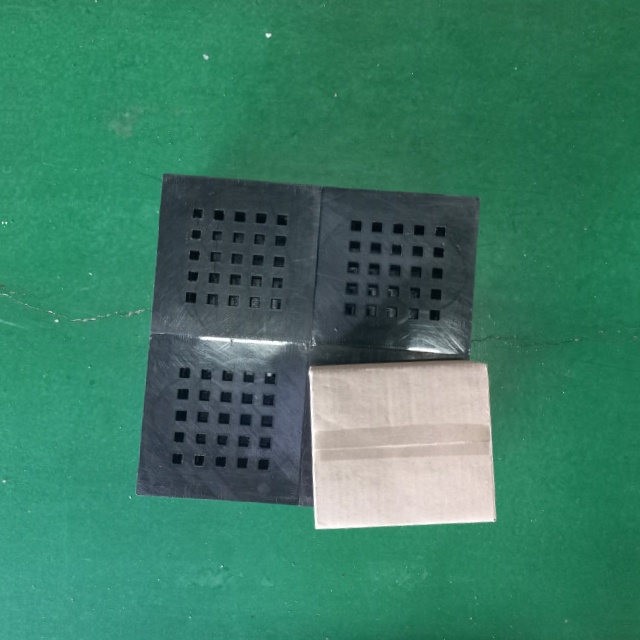box: (306, 355, 498, 531)
pallet: (122, 163, 498, 534)
